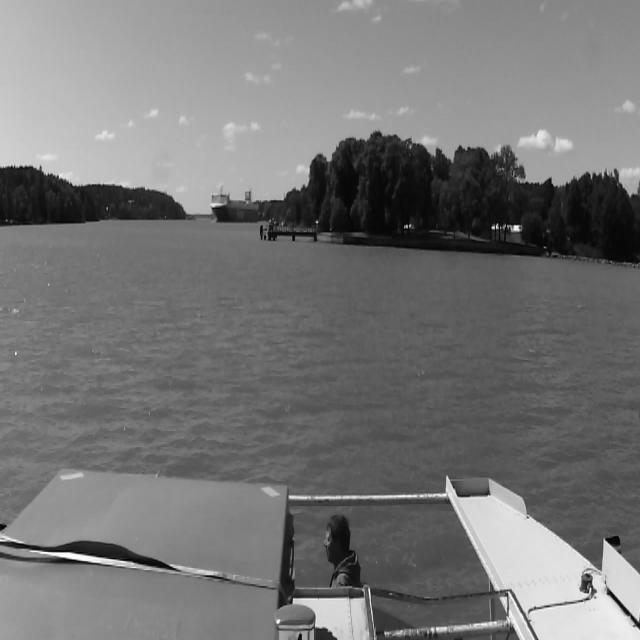ship: (211, 190, 259, 220)
